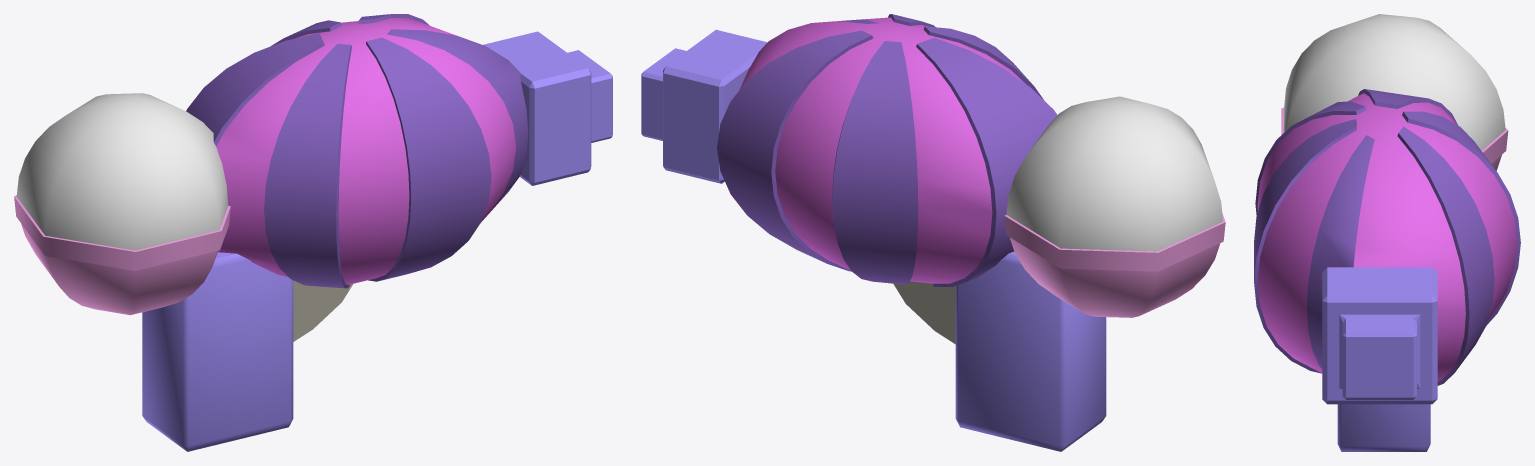
File: gun_blend.fbx
The picture shows the model from 3 angles, left to right: view 1: azimuth 30°, elevation 25°; view 2: azimuth 150°, elevation 25°; view 3: azimuth 270°, elevation 25°; orthographic projection. The views are drawn at different scales.
Parts seen in each view (by area): view 1: Cube.002; view 2: Cube.002; view 3: Cube.002.
Boxes of the visible parts, bbox=[...] form: Cube.002: bbox=[14, 14, 612, 451]; Cube.002: bbox=[641, 14, 1225, 451]; Cube.002: bbox=[1254, 14, 1520, 451].
Bounding box in the file's own units: 212 × 130 × 83.47.
